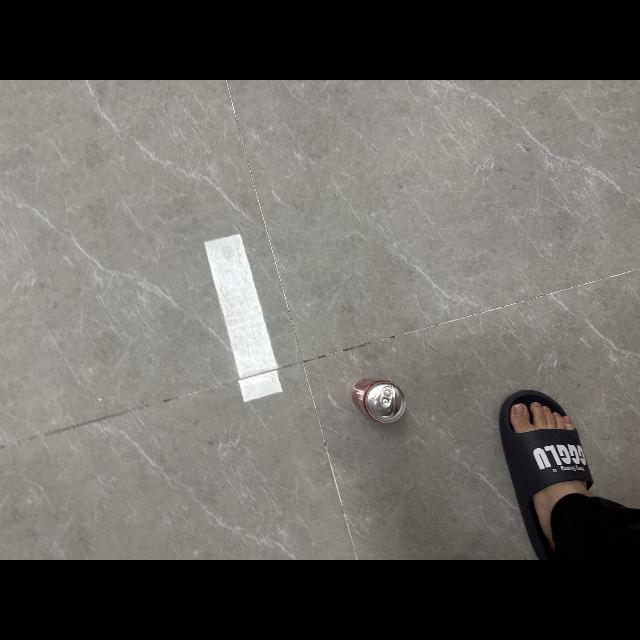Cola: (345, 372, 413, 428)
